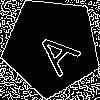A: (26, 21, 82, 78)
